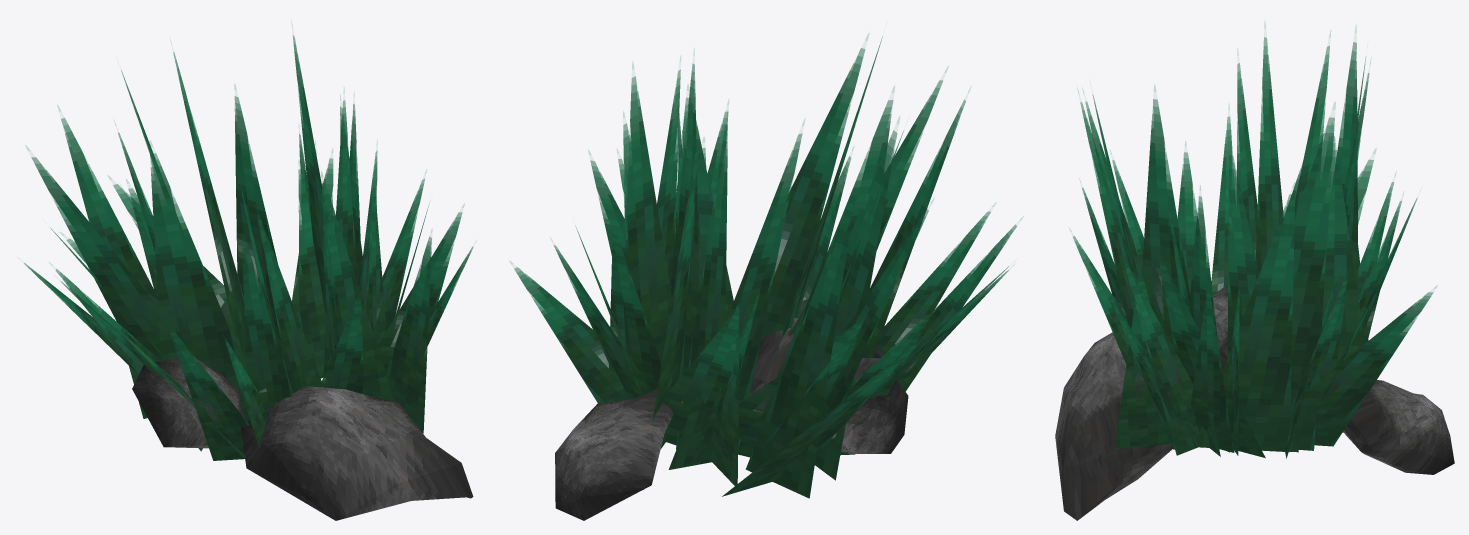
File: grass.glb
The picture shows the model from 3 angles, left to right: view 1: azimuth 30°, elevation 25°; view 2: azimuth 150°, elevation 25°; view 3: azimuth 270°, elevation 25°; orthographic projection. The views are drawn at different scales.
Parts seen in each view (by area): view 1: Plane.007; view 2: Plane.007; view 3: Plane.007.
Boxes of the visible parts, <box> form: Plane.007: <box>24,26,475,520</box>; Plane.007: <box>510,33,1023,520</box>; Plane.007: <box>1055,24,1454,520</box>.
Bounding box in the file's own units: 7.6 × 7.61 × 6.89.
Materials: 2 (2 with a texture image).
